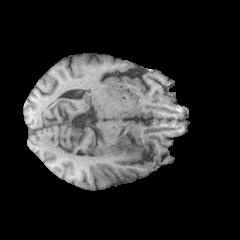glioma: (88, 138, 139, 161)
